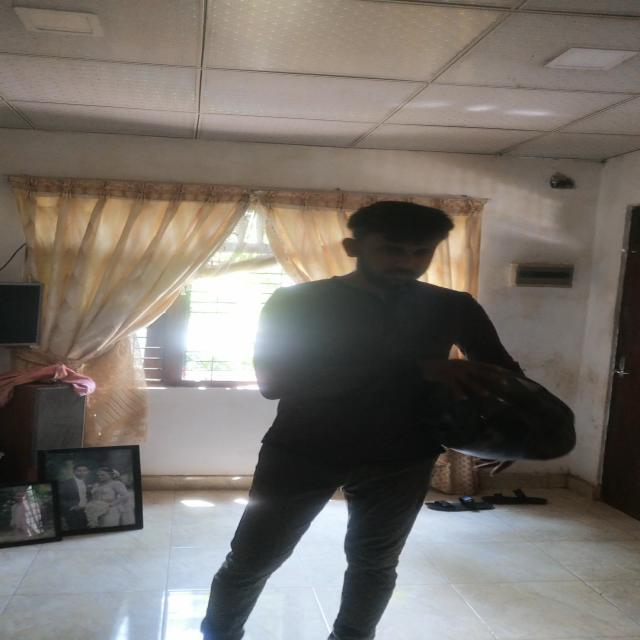Person: (255, 200, 533, 640)
